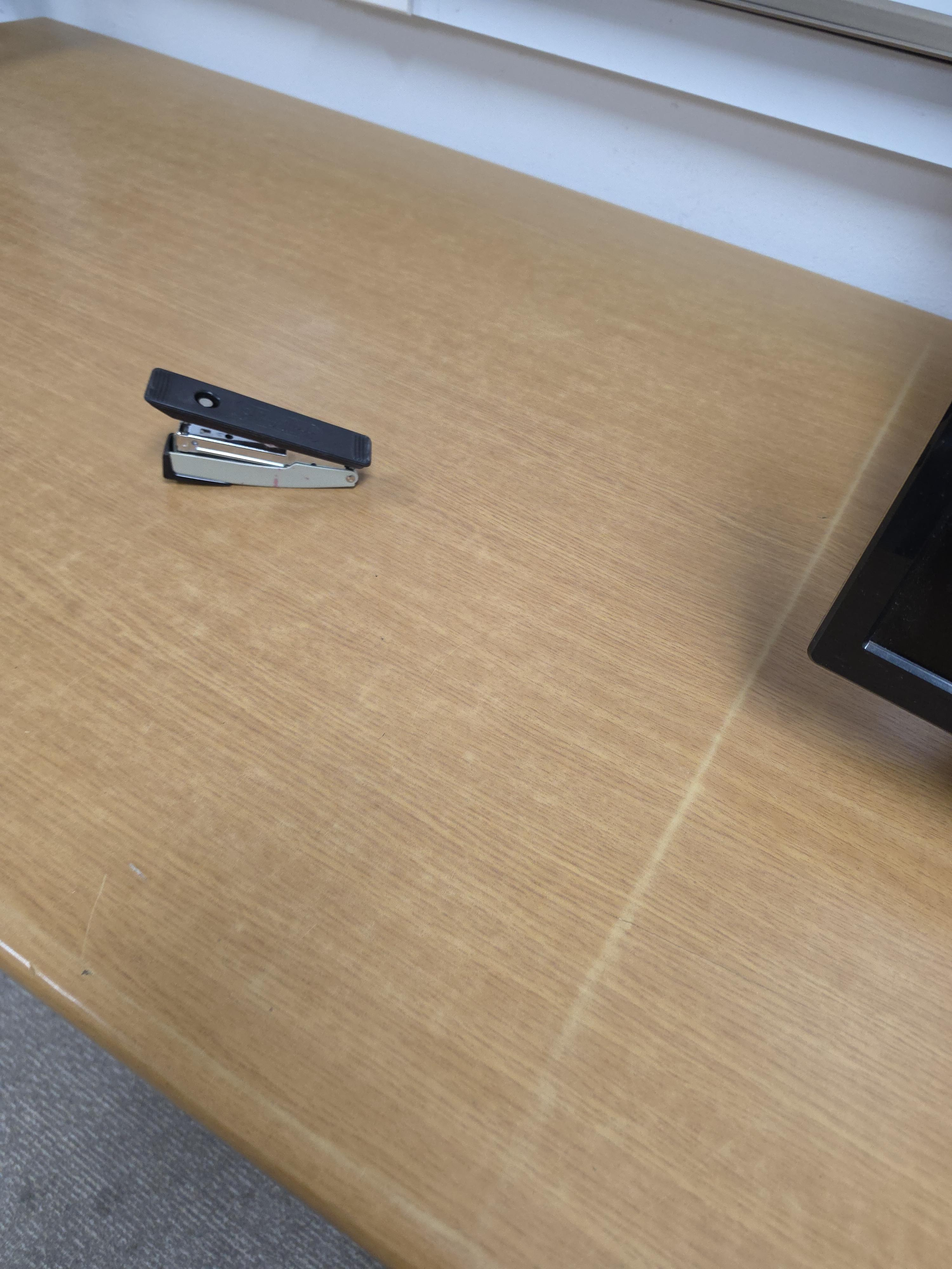stapler: (138, 363, 374, 493)
